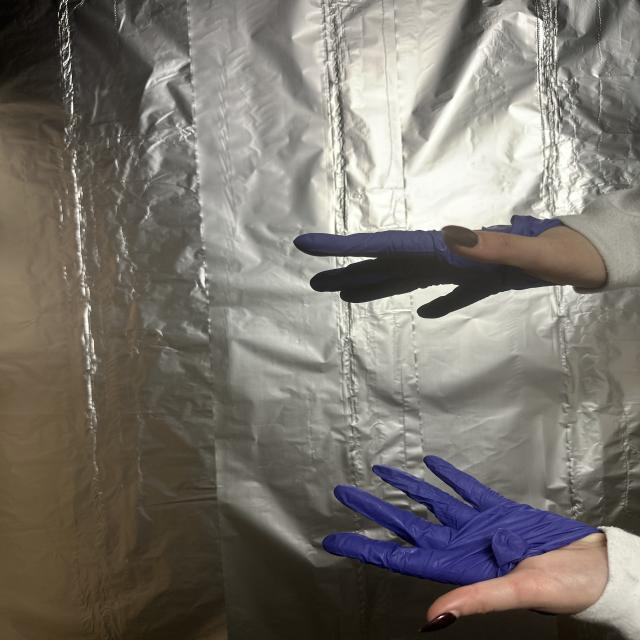glove_partial: (322, 453, 612, 627), (289, 210, 617, 320)
